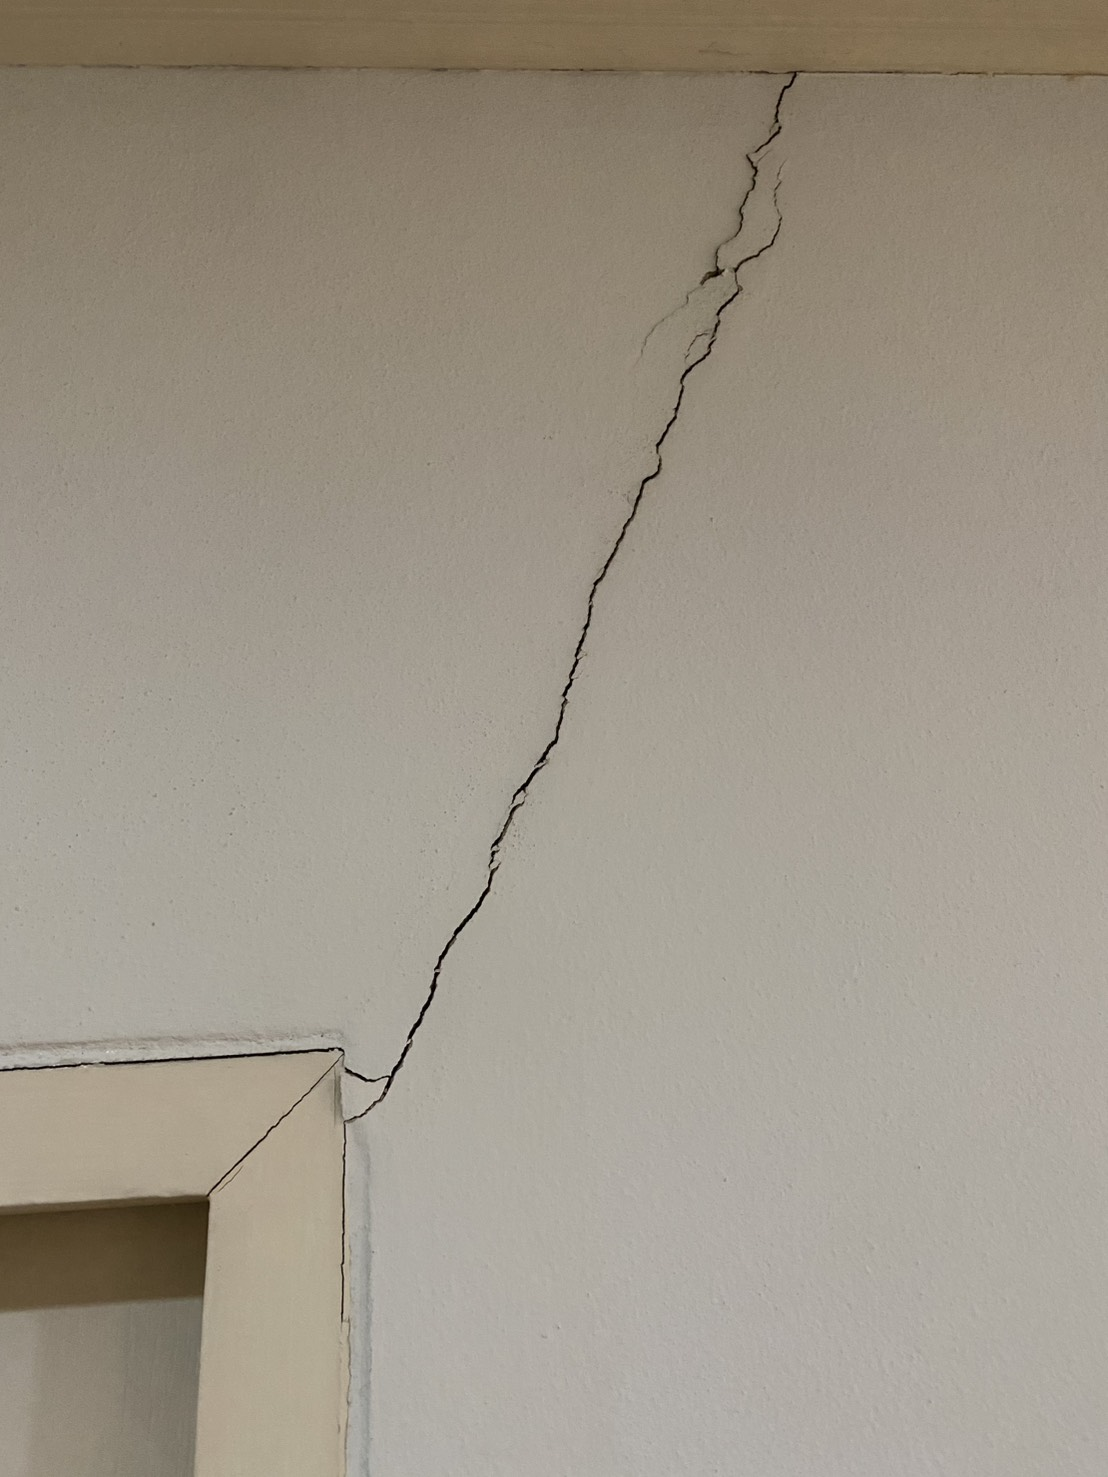Low: (351, 47, 903, 1128)
